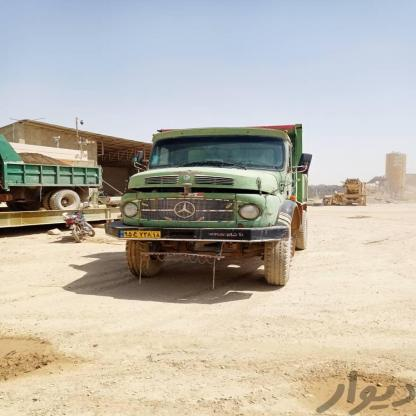Truck: (125, 125, 323, 294), (0, 141, 104, 210)
